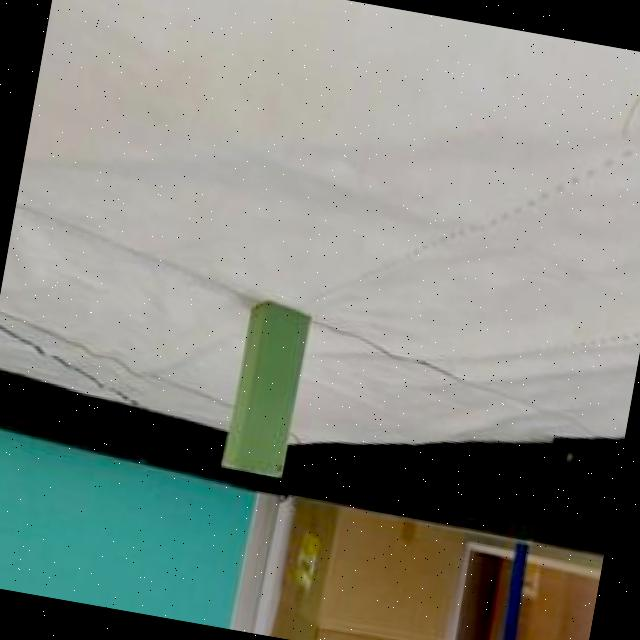greenbox: (218, 290, 314, 482)
